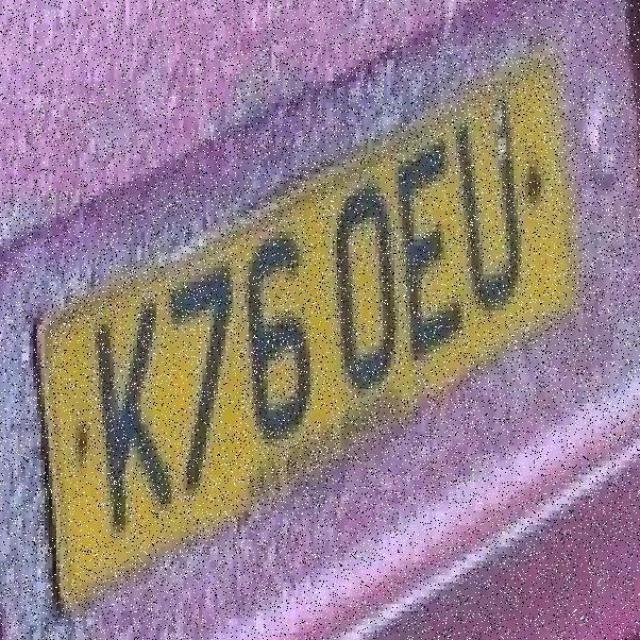license-plate: (20, 2, 636, 640)
